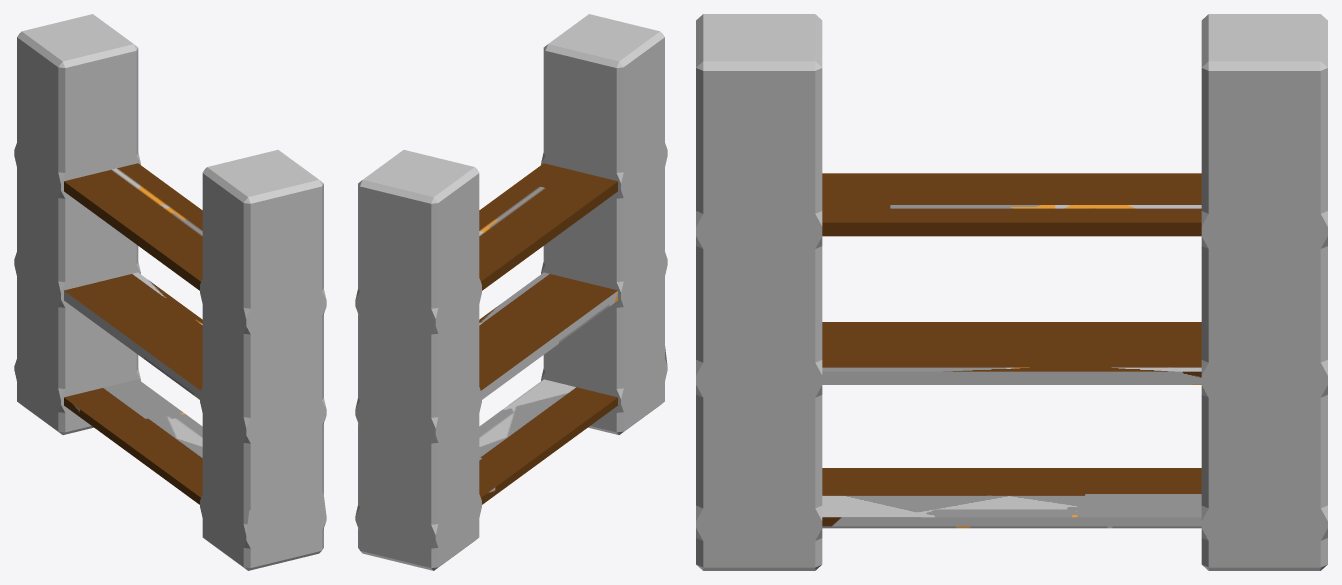
The model's file is shelf_whole.obj.
3 renders of one model, left to right at view 1: azimuth 30°, elevation 25°; view 2: azimuth 150°, elevation 25°; view 3: azimuth 270°, elevation 25°, orthographic. The views are drawn at different scales.
Parts seen in each view (by area): view 1: Cube.001_Cube.005; view 2: Cube.001_Cube.005; view 3: Cube.001_Cube.005.
Boxes of the visible parts, <box> form: Cube.001_Cube.005: <box>14,14,326,570</box>; Cube.001_Cube.005: <box>355,14,667,570</box>; Cube.001_Cube.005: <box>696,14,1327,570</box>.
Bounding box in the file's own units: 2 × 8.9 × 10.
